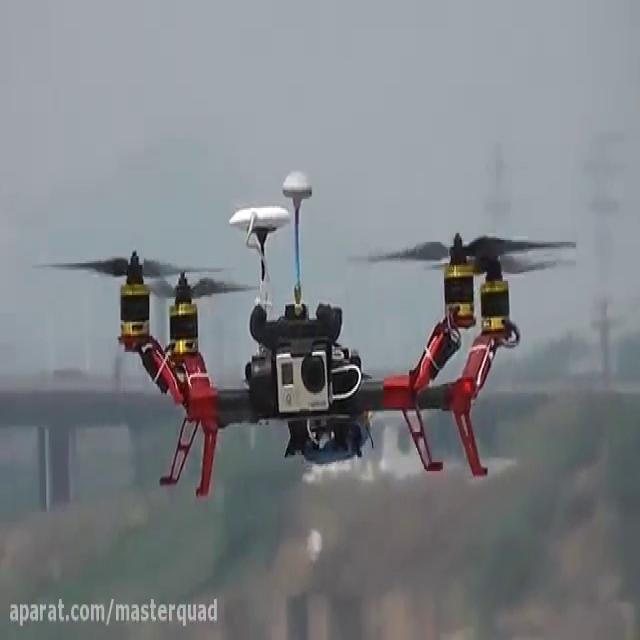drone: (27, 162, 579, 503)
